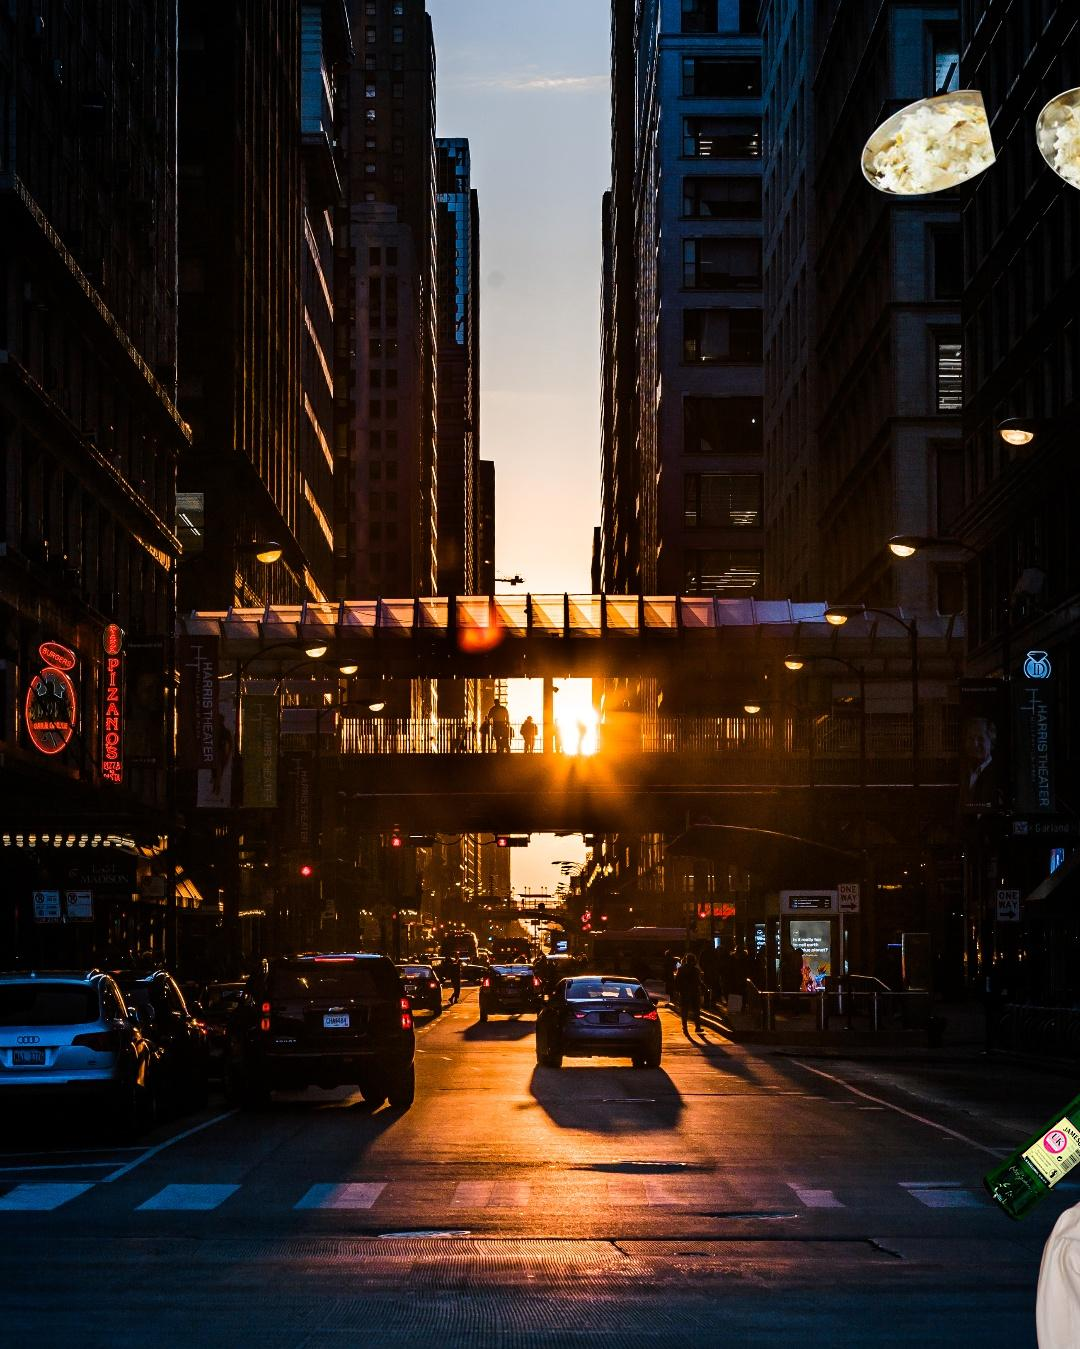biological: (859, 81, 1080, 282)
clothes: (1032, 1048, 1080, 1349)
glass: (978, 1035, 1080, 1228)
